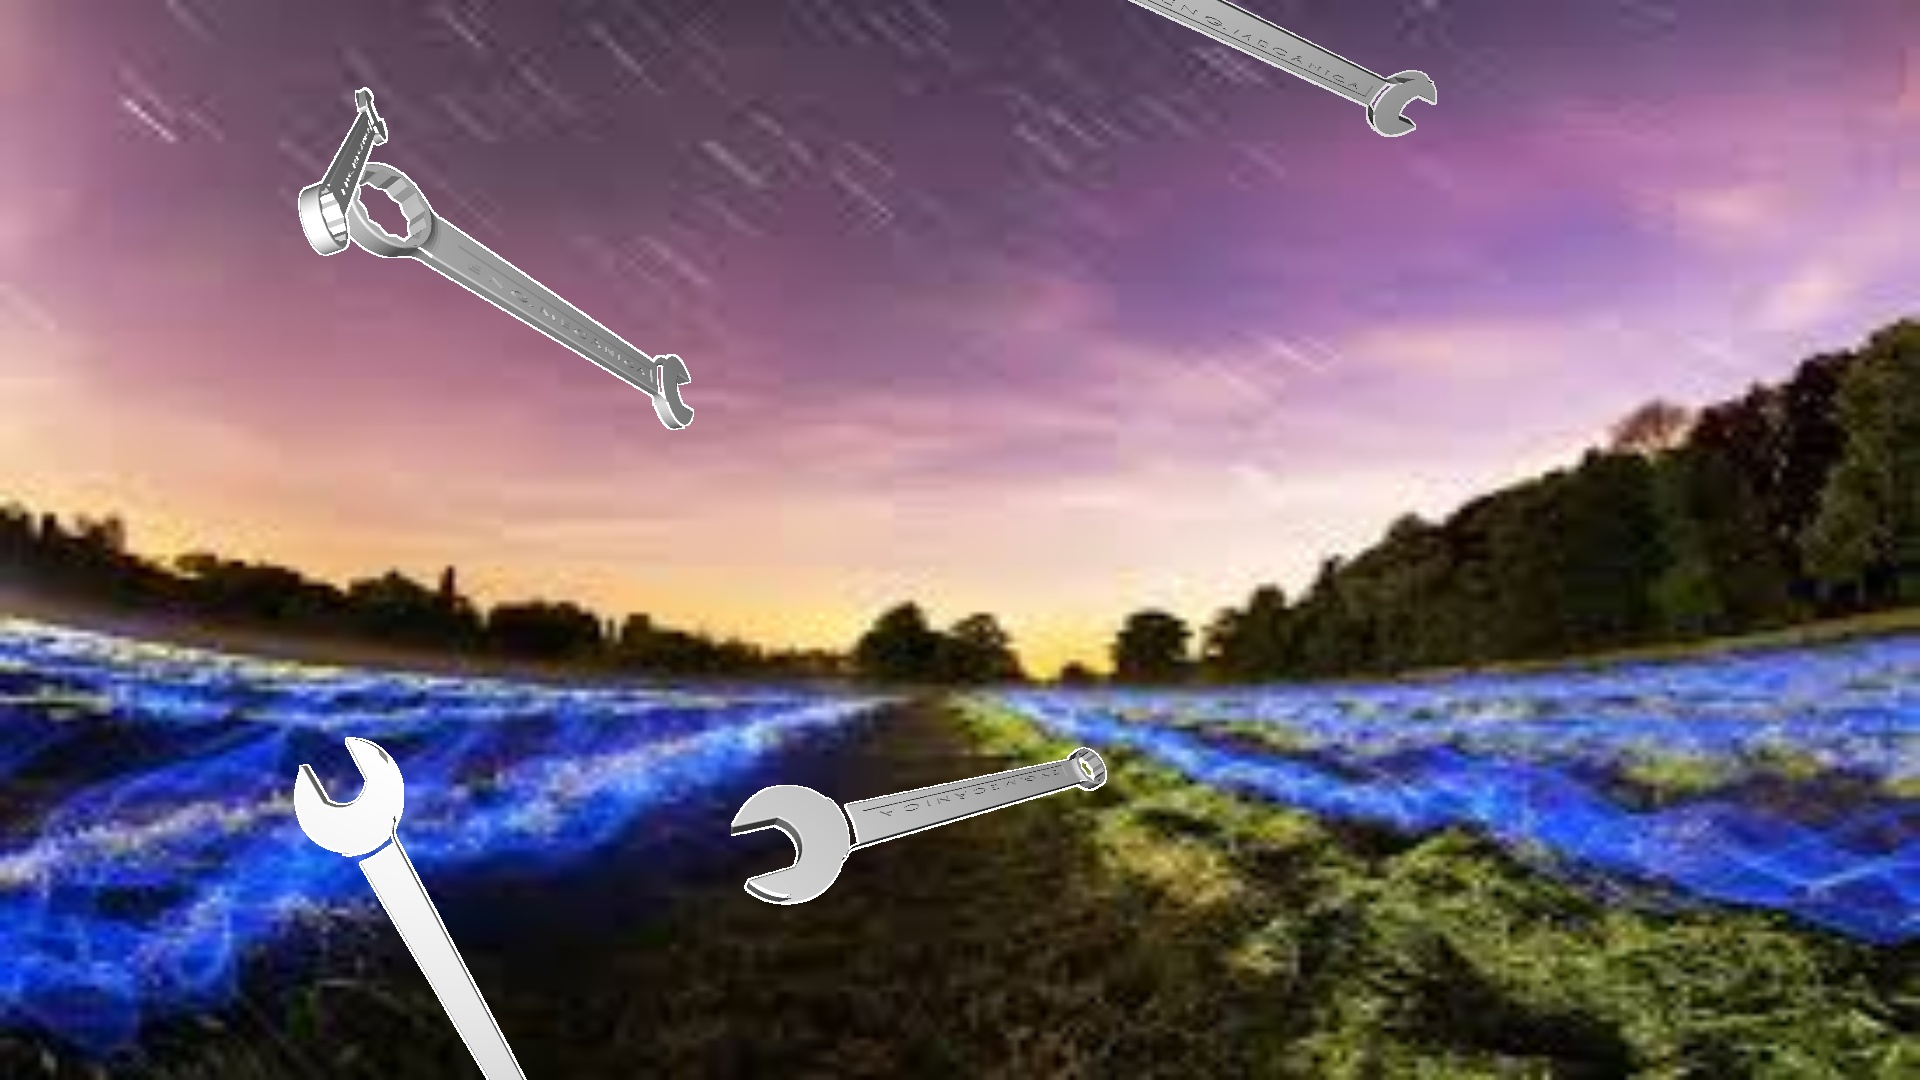Mixed Key: (347, 162, 694, 429), (294, 737, 526, 1079), (731, 746, 1106, 905), (1127, 0, 1436, 136), (298, 87, 386, 255)
